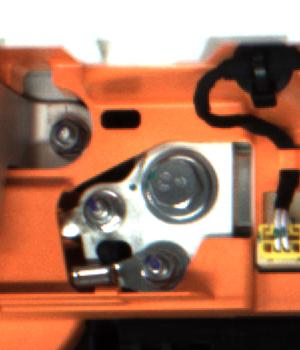screw_s: (72, 188, 121, 233), (40, 114, 82, 159), (134, 246, 181, 286)
